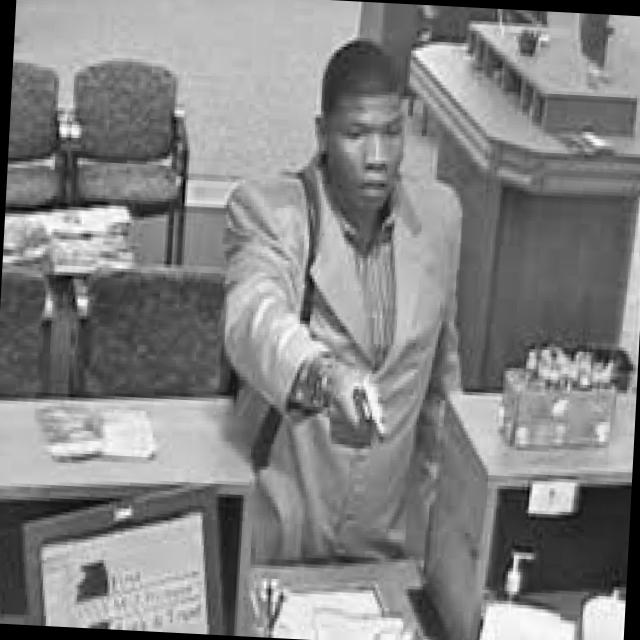Non-Weaponed Elements: (0, 484, 274, 634)
Pistol: (339, 364, 402, 461)
